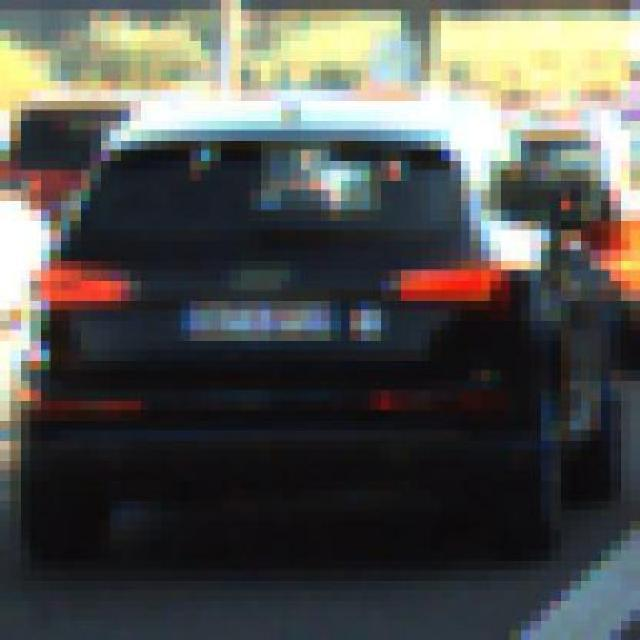vehicle: (9, 93, 633, 550)
